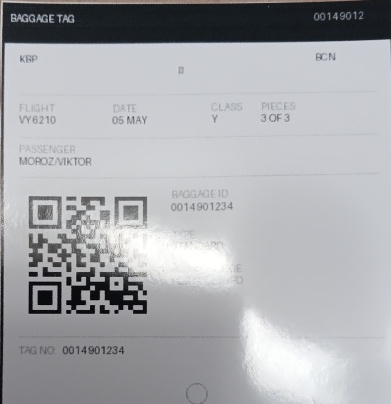LPN_bottom: (59, 341, 127, 357)
LPN_right: (164, 200, 241, 214)
